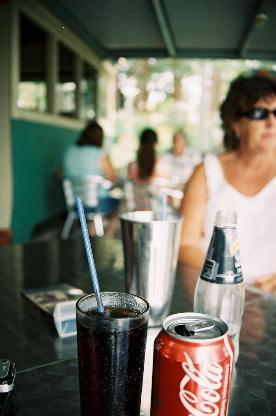Can: (149, 310, 237, 416)
Others: (195, 208, 244, 361)
